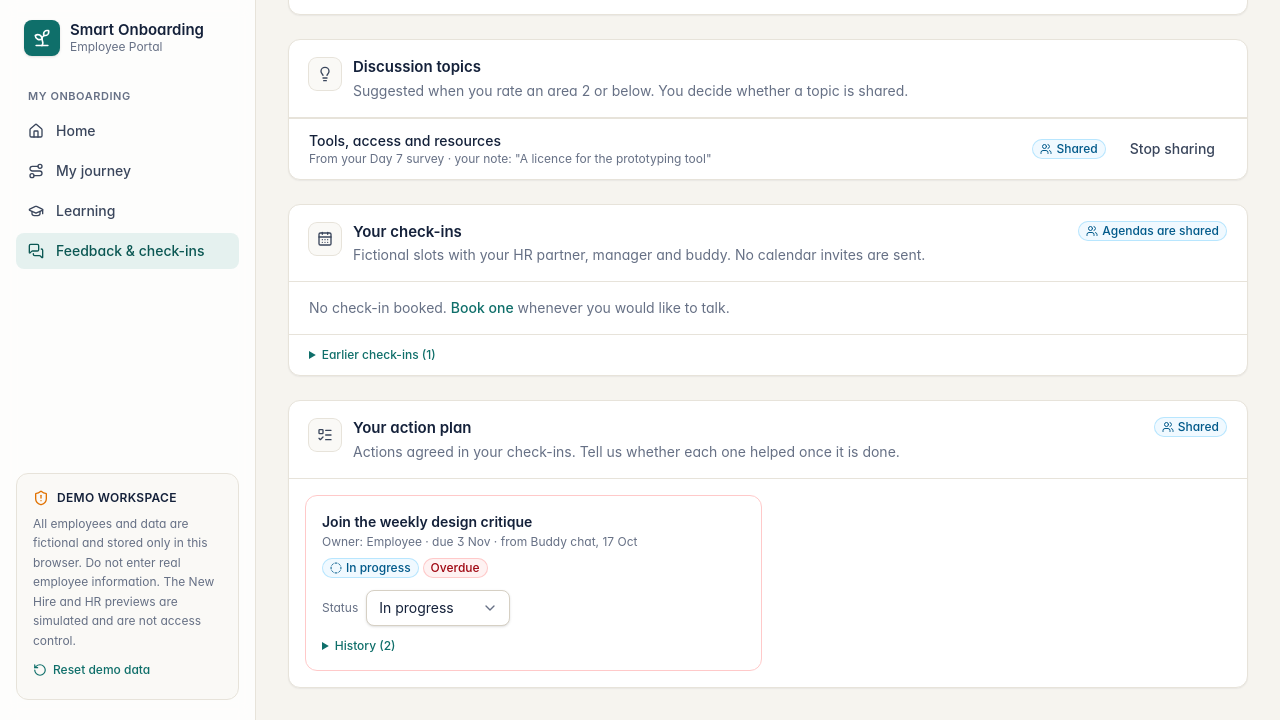
Test case: Employee: Feedback & check-ins › asks for a follow-up after an action is completed and allows reopening when it did not help
The image size is (1280, 720).
(page scrolled)
Expected: the element named "Action: Join the weekly design critique" shows "Overdue", [431, 560, 480, 575]
Select "Completed" in the dropdown named "Status of". click: (438, 608)
box: [366, 590, 510, 626]
(page scrolled)
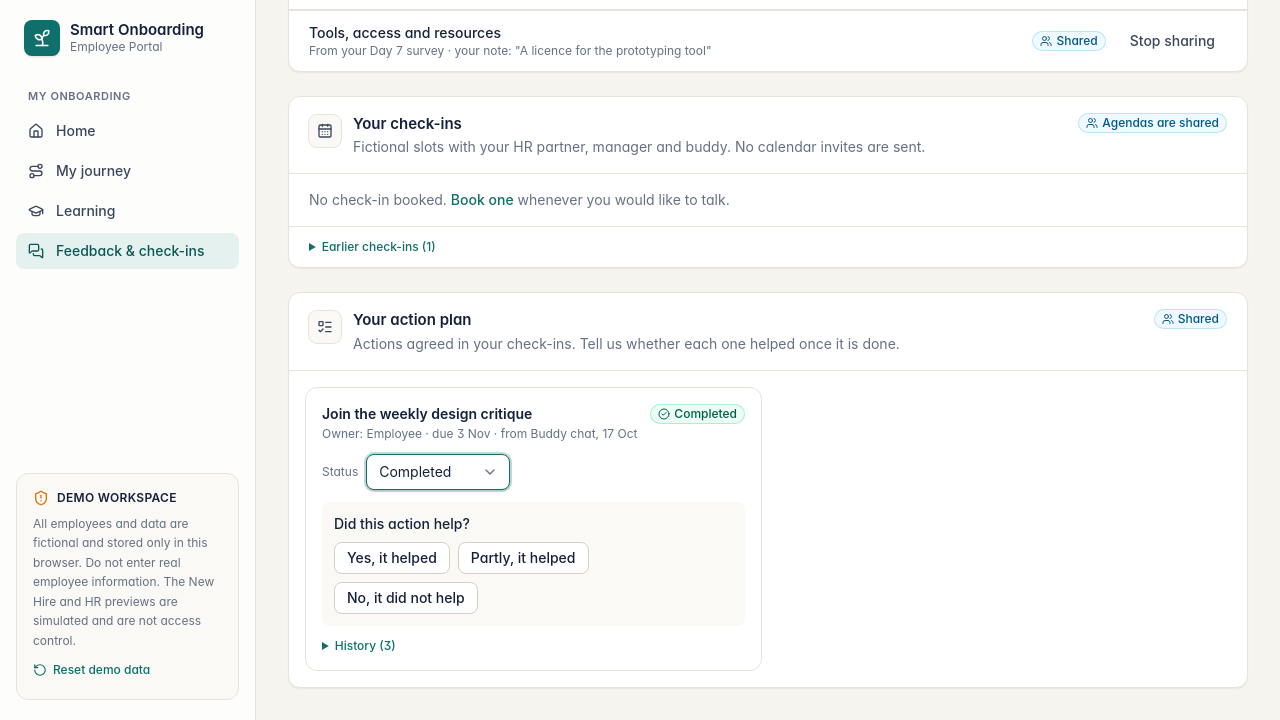
Click the button "No, it did not help". click: (406, 598)
box: [334, 582, 478, 614]
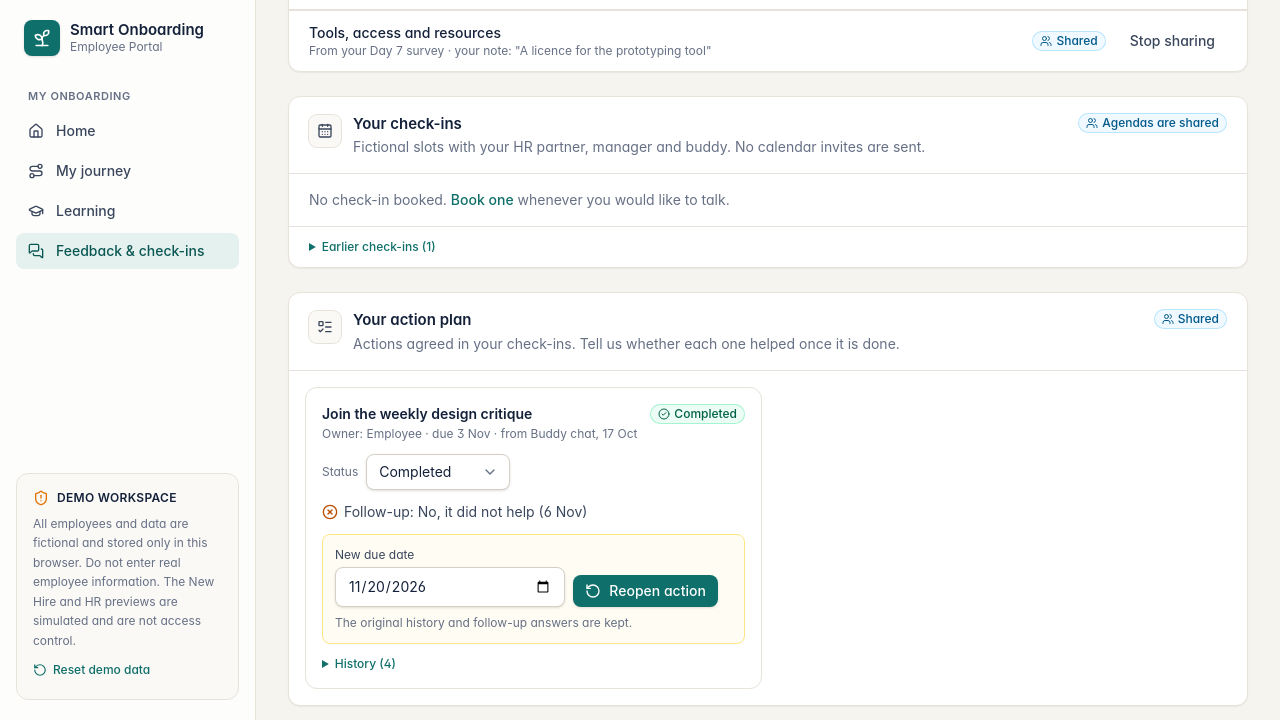
Now the element named "Action: Join the weekly design critique" shows "Follow-up: No, it did not help", box [305, 387, 762, 689]
Click the button "Reopen action". click: (646, 591)
box: [573, 575, 718, 607]
(page scrolled)
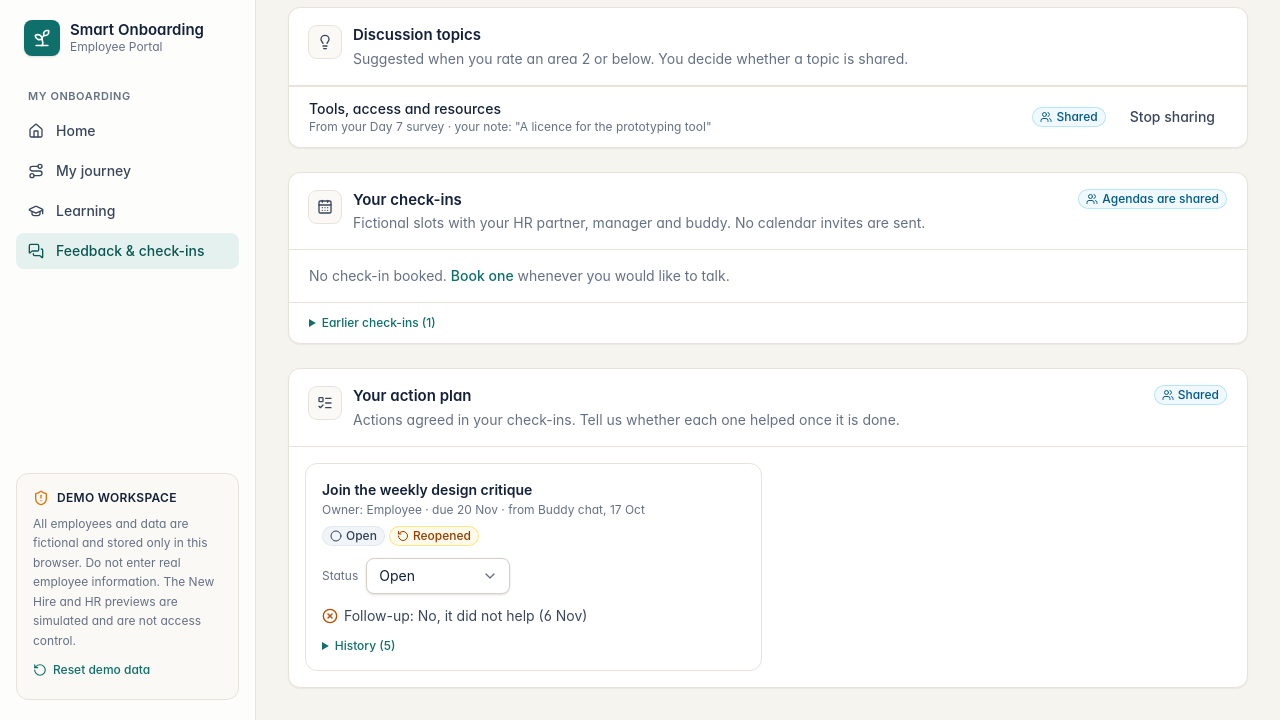
Now the element named "Action: Join the weekly design critique" shows "Reopened", box [413, 528, 471, 543]
